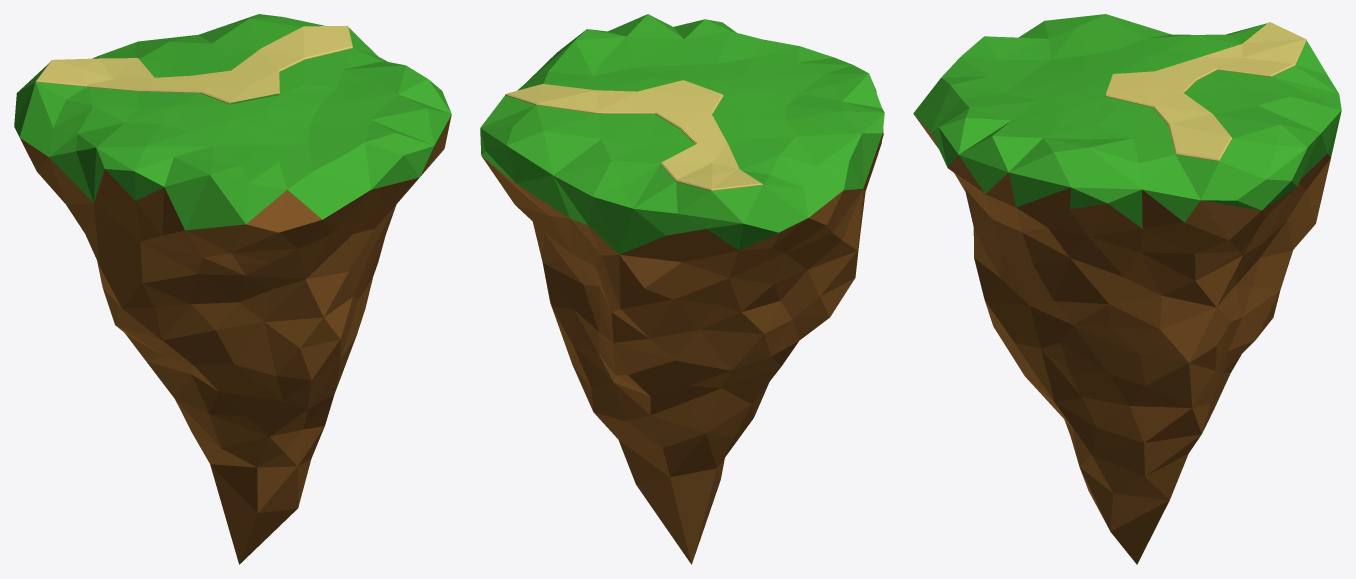
The model's file is Island.fbx.
The picture shows the model from 3 angles, left to right: view 1: azimuth 30°, elevation 25°; view 2: azimuth 150°, elevation 25°; view 3: azimuth 270°, elevation 25°; orthographic projection. The views are drawn at different scales.
Visible parts, largest first — view 1: Island; view 2: Island; view 3: Island.
Boxes of the visible parts, <box> form: Island: <box>14,14,451,564</box>; Island: <box>480,14,884,564</box>; Island: <box>913,14,1341,564</box>.
Size of the model in its own units: 681 by 910 by 725.
